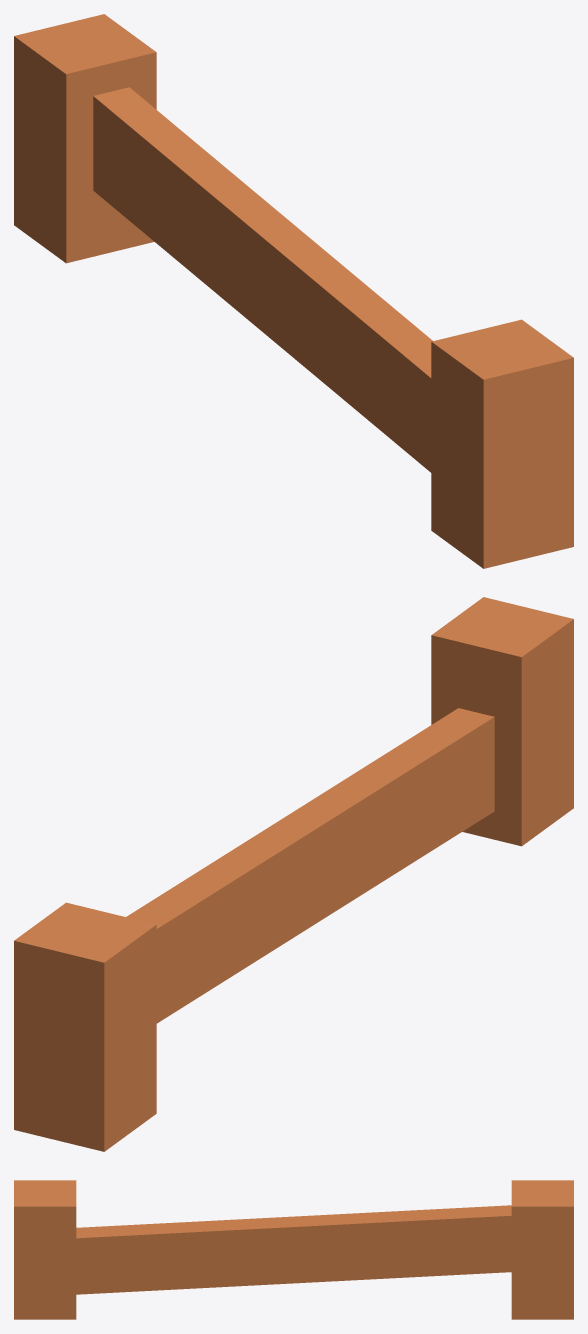
The model's file is fenceLowBroken.fbx.
3 renders of one model, top to bottom at view 1: azimuth 30°, elevation 25°; view 2: azimuth 150°, elevation 25°; view 3: azimuth 270°, elevation 25°, orthographic. The views are drawn at different scales.
Visible parts, largest first — view 1: fenceLowBroken; view 2: fenceLowBroken; view 3: fenceLowBroken.
Part boxes in pixels (left/top/right/bottom): fenceLowBroken: left=14, top=14, right=573, bottom=568; fenceLowBroken: left=14, top=597, right=573, bottom=1151; fenceLowBroken: left=14, top=1180, right=573, bottom=1319.
Bounding box in the file's own units: 1 × 2 × 9.
